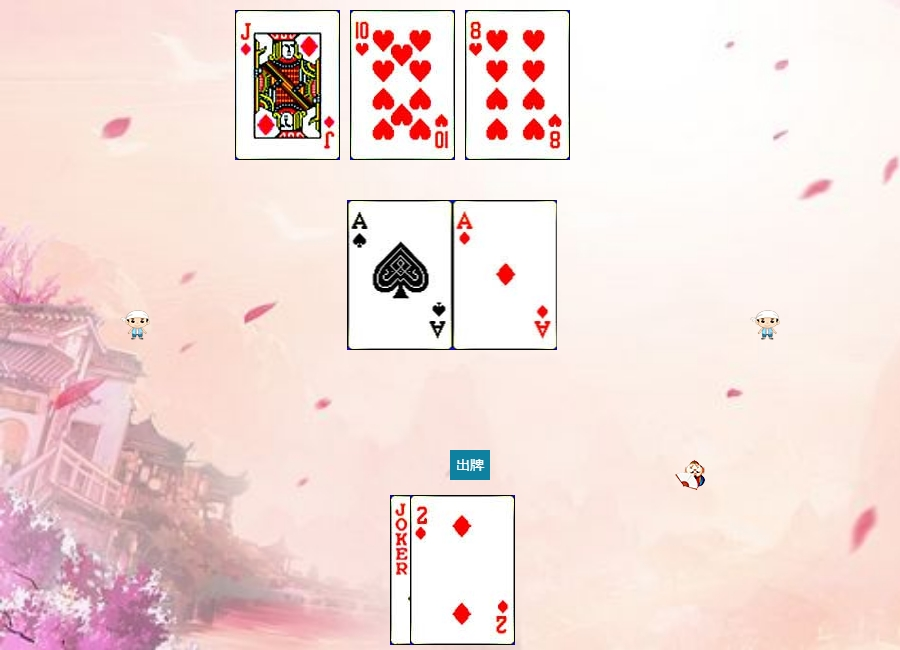10~3: (350, 10, 455, 160)
11~1: (235, 10, 340, 160)
14~1: (453, 200, 558, 350)
14~4: (348, 200, 453, 350)
15~1: (410, 495, 515, 645)
18~4: (390, 495, 495, 645)
8~3: (465, 10, 570, 160)
